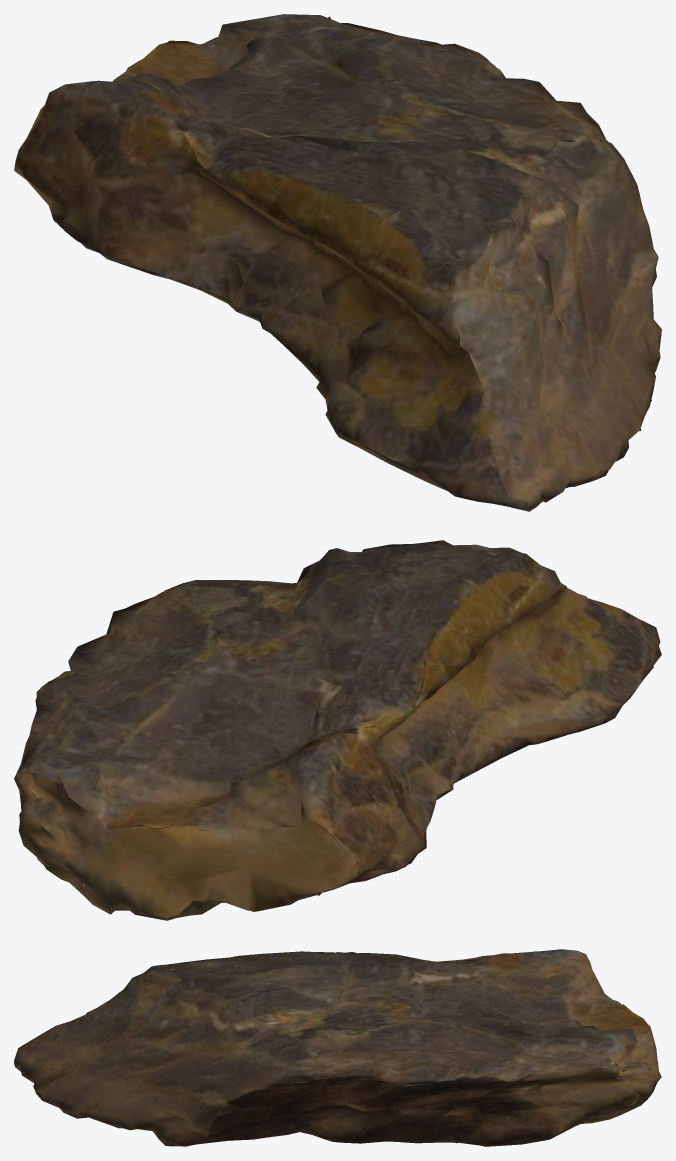
The model's file is rock_09.glb.
3 views of the same model, one above another, from view 1: azimuth 30°, elevation 25°; view 2: azimuth 150°, elevation 25°; view 3: azimuth 270°, elevation 25° (orthographic). The views are drawn at different scales.
Visible parts, largest first — view 1: rock_09_LOD0; view 2: rock_09_LOD0; view 3: rock_09_LOD0.
Part boxes in pixels (<box>): rock_09_LOD0: <box>14,14,661,511</box>; rock_09_LOD0: <box>14,540,661,920</box>; rock_09_LOD0: <box>14,949,661,1146</box>.
Bounding box in the file's own units: 0.0741 × 0.0326 × 0.1449.
Materials: 1 (1 with a texture image).
